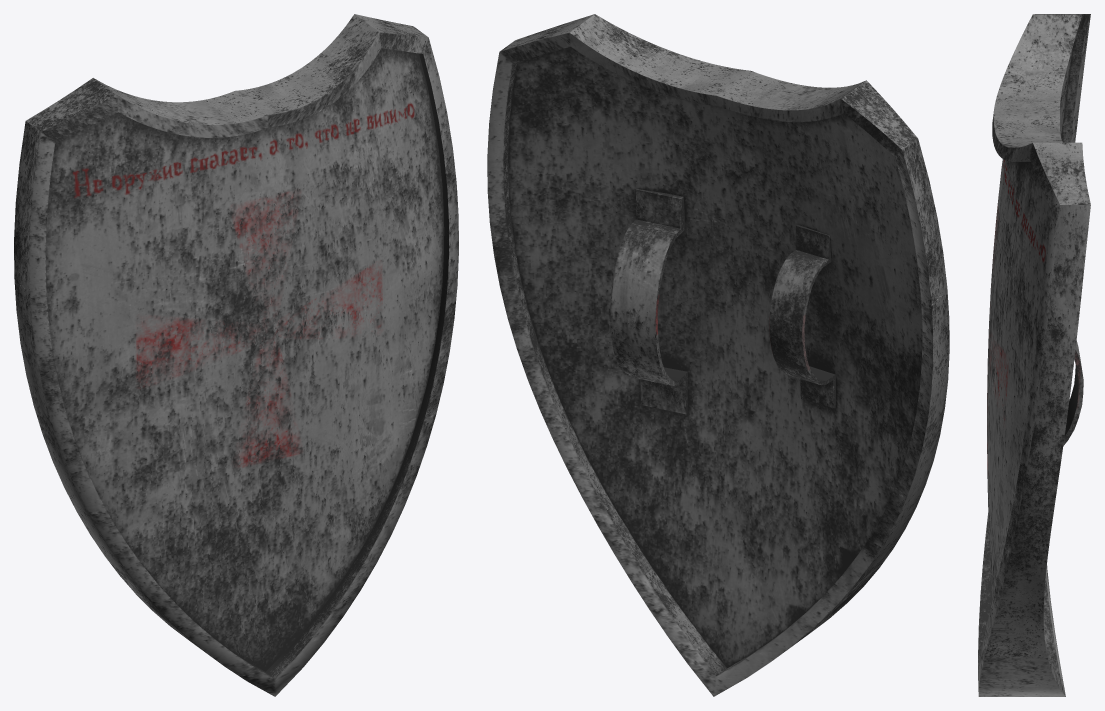
File: shield.glb
The picture shows the model from 3 angles, left to right: view 1: azimuth 30°, elevation 25°; view 2: azimuth 150°, elevation 25°; view 3: azimuth 270°, elevation 25°; orthographic projection. The views are drawn at different scales.
Visible parts, largest first — view 1: Shield04; view 2: Shield04; view 3: Shield04.
Boxes of the visible parts, box(x1,y1,x2,y2) form: Shield04: box(14, 14, 458, 696); Shield04: box(487, 14, 949, 696); Shield04: box(978, 14, 1090, 696).
Size of the model in its own units: 0.4022 by 0.5521 by 0.0913.
1 material, 1 textured.
